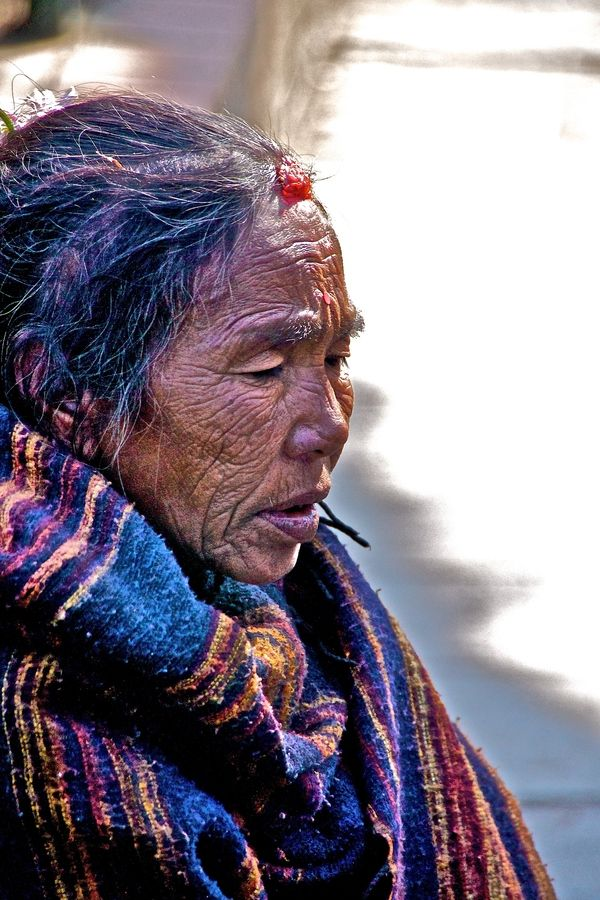human: (1, 74, 574, 900)
